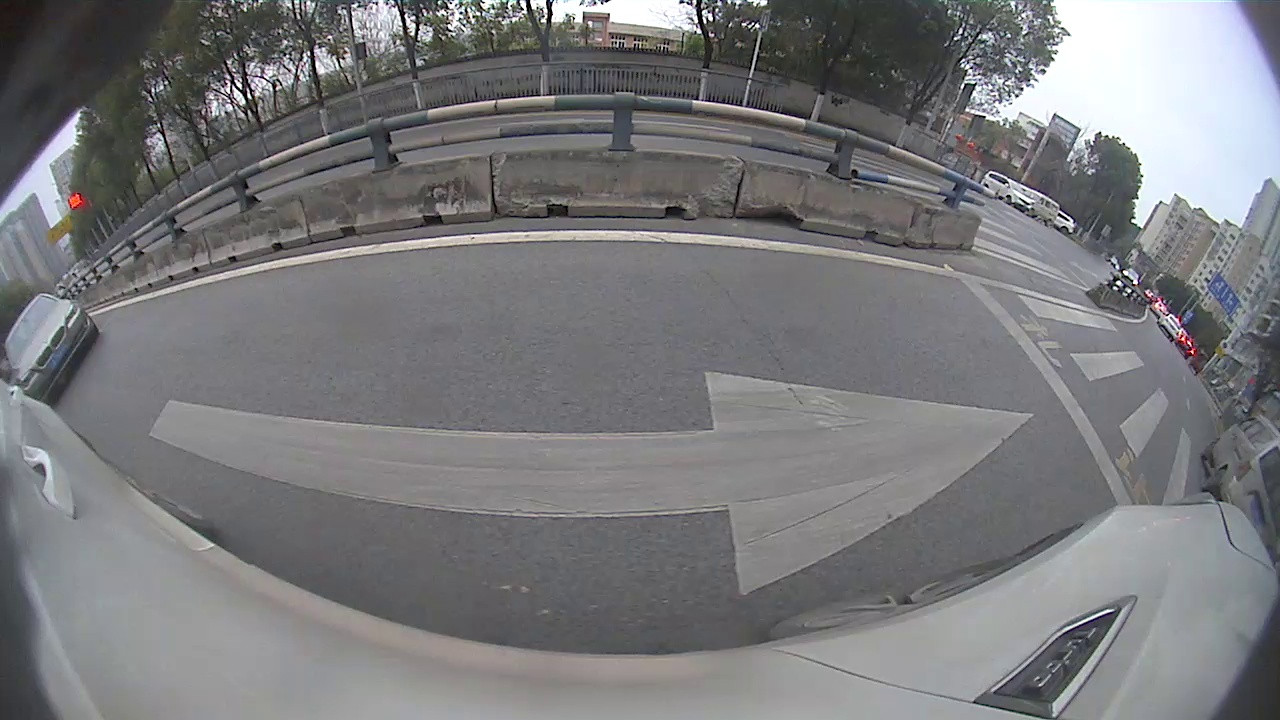car: (1198, 400, 1278, 553), (1, 291, 101, 410)
